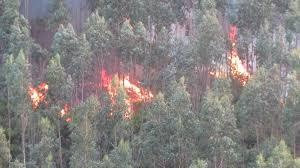fire: (99, 67, 157, 110), (221, 27, 251, 82), (27, 81, 49, 107), (58, 104, 71, 120)
